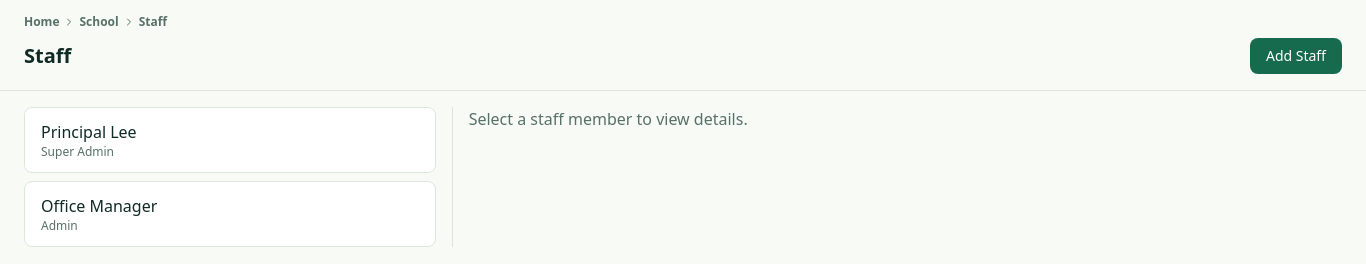
StaffPage › hides the remove button for the sole remaining super admin
Select the sole super_admin (self) — no Remove button.
Click the text "Principal Lee": (89, 132) left=41, top=121, right=137, bottom=143
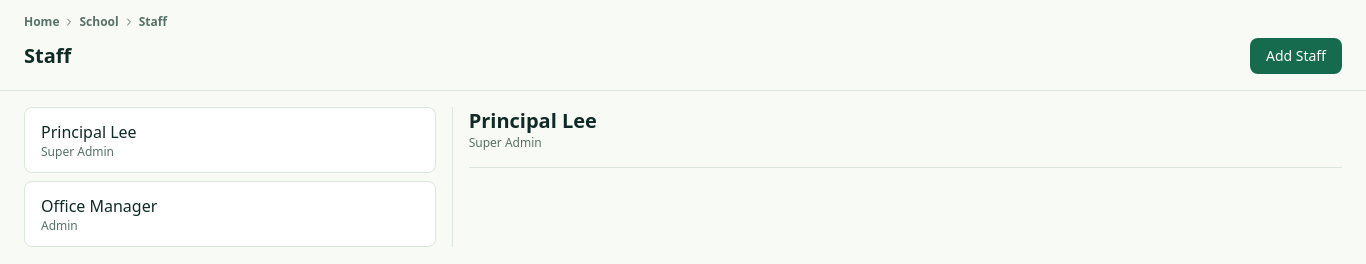
Expected: the text "Remove" is not shown
Select the admin — Remove is available to a super_admin.
Click the text "Office Manager": (99, 206) left=41, top=195, right=157, bottom=217
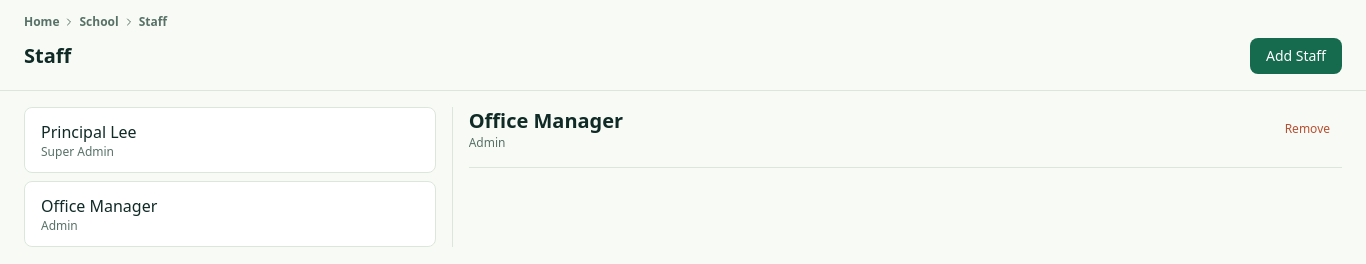
Now the button "Remove" is shown, box left=1273, top=115, right=1342, bottom=143
